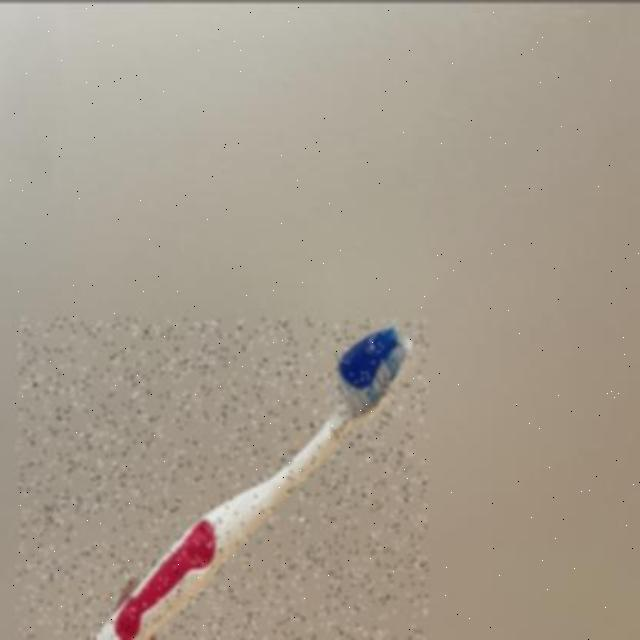toothbrush: (17, 316, 427, 640)
